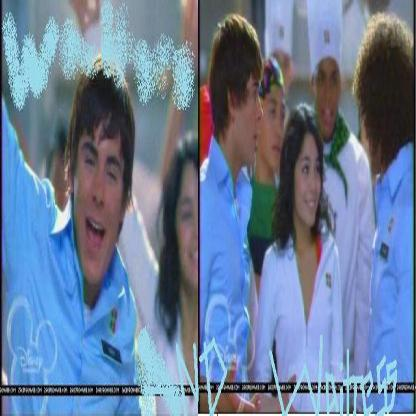face: (76, 134, 121, 285), (178, 180, 210, 289), (235, 76, 265, 165), (294, 155, 321, 227), (316, 69, 340, 138), (263, 100, 286, 170), (271, 55, 290, 108), (60, 142, 72, 182)
